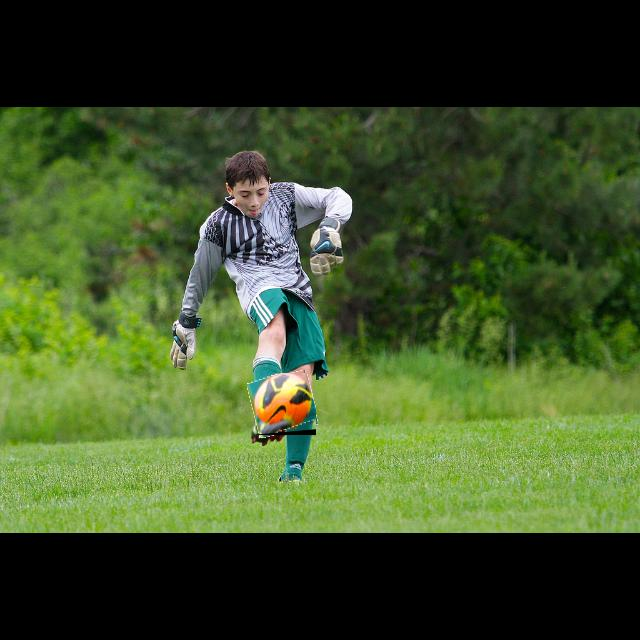Football: (250, 373, 316, 435)
